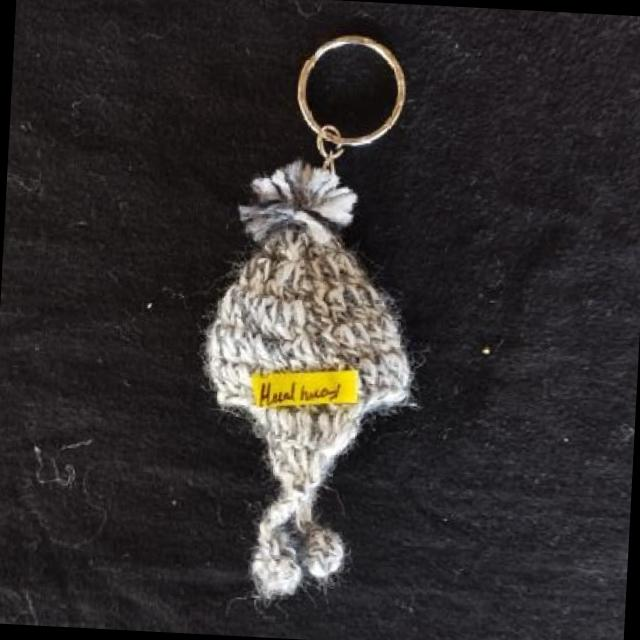Llavero: (187, 153, 429, 611)
